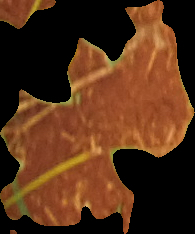soil: (1, 1, 193, 233)
